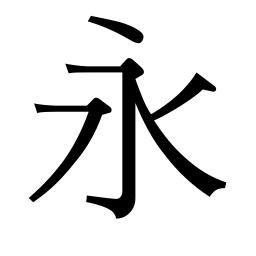D: (86, 12, 147, 45)
HSZ: (111, 57, 147, 90)
Hs: (62, 60, 103, 76)
Ne: (192, 170, 229, 199)
PNc: (142, 103, 165, 137)
PZe: (27, 181, 53, 205)
Ps: (185, 71, 218, 103)
SG: (84, 183, 139, 220)
Sm: (119, 140, 140, 169)
TPZ: (77, 96, 113, 141)
Ts: (31, 100, 59, 115)
